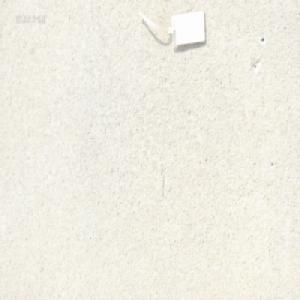LuggageTag: (134, 5, 208, 52)
